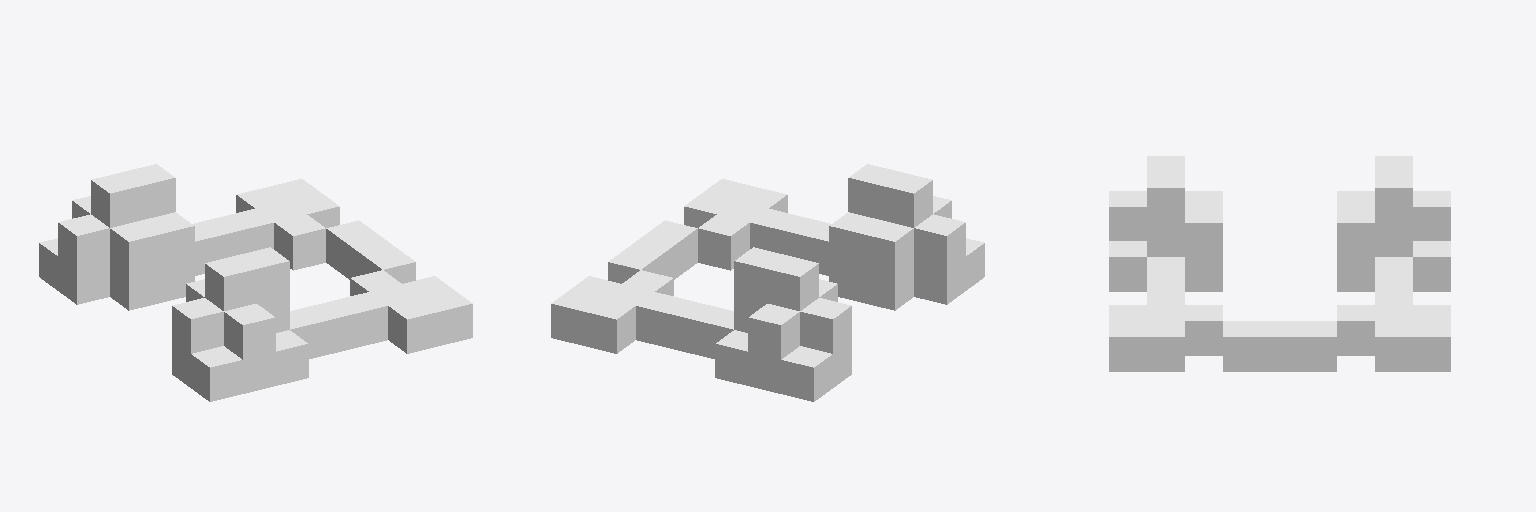
Rendered from F_Headphones.obj.
3 views of the same model, side by side, from view 1: azimuth 30°, elevation 25°; view 2: azimuth 150°, elevation 25°; view 3: azimuth 270°, elevation 25° (orthographic).
Visible parts, largest first — view 1: object 1; view 2: object 1; view 3: object 1.
Boxes of the visible parts, x1=… form: object 1: x1=39, y1=164, x2=472, y2=401; object 1: x1=551, y1=164, x2=984, y2=401; object 1: x1=1109, y1=156, x2=1450, y2=371.
Size of the model in its own units: 0.8 by 0.3 by 0.9.